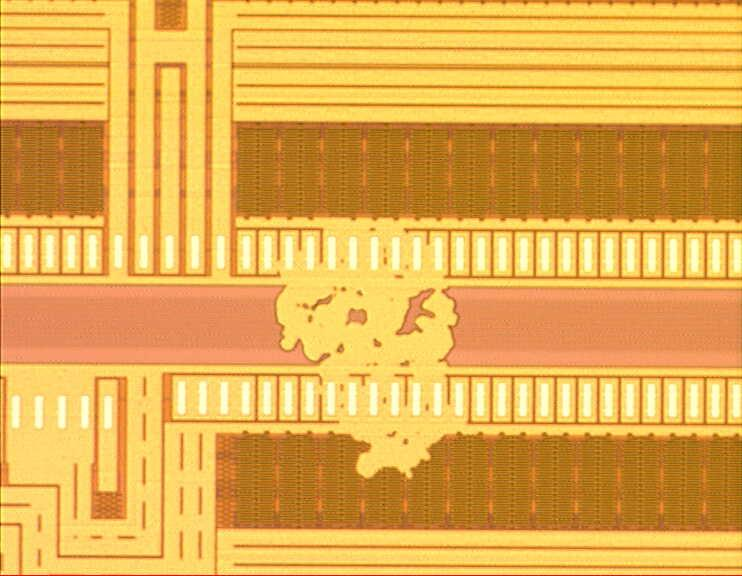BLOCK ETCH: (269, 215, 473, 485)
